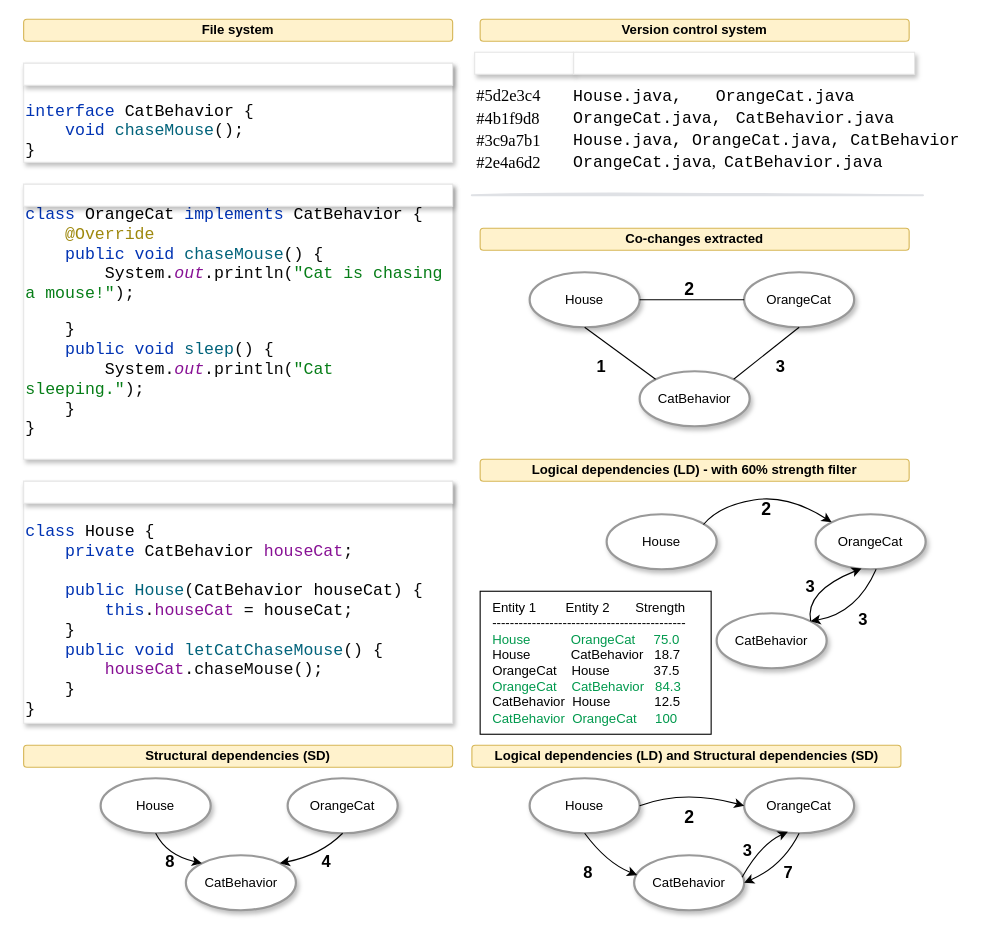
Image size: 988x938. Some labels were removed from this diagram. The shapes that lost their labels are listed below. From the top down, each one's centre as x and y in pixels, then its label:
At point (238, 75): "CatBehavior.java".
At point (524, 64): "Commit Hash".
At point (744, 64): "Files Modified".
At point (238, 196): "OrangeCat.java".
At point (238, 493): "House.java".
